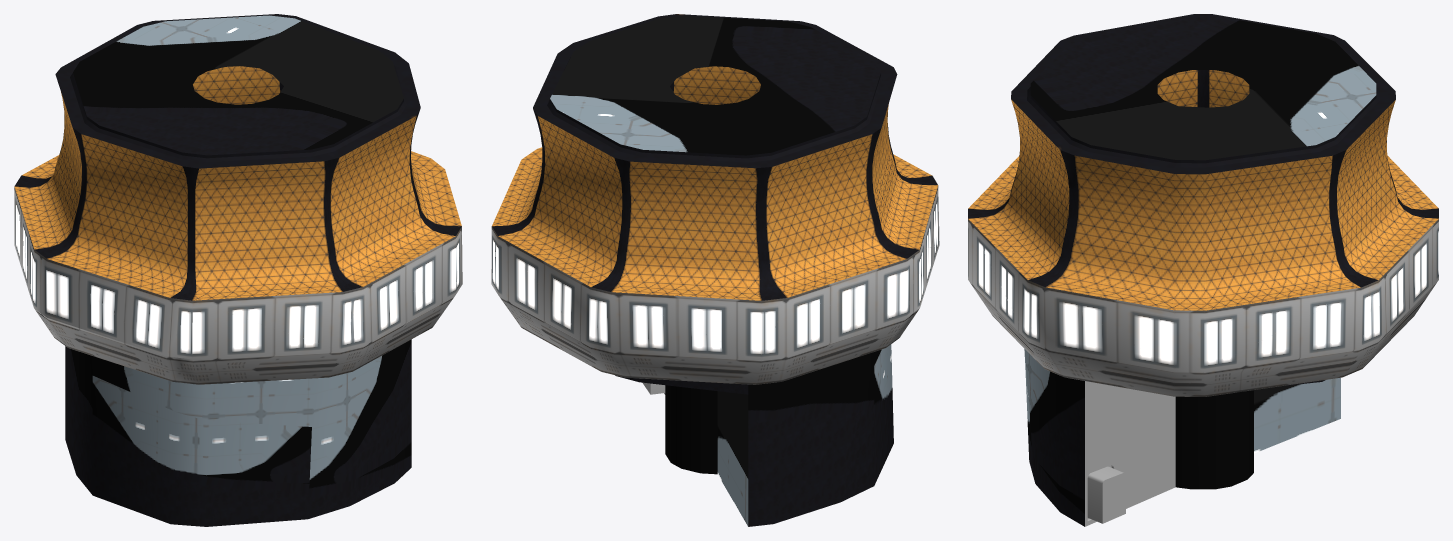
File: Level_01.fbx
The picture shows the model from 3 angles, left to right: view 1: azimuth 30°, elevation 25°; view 2: azimuth 150°, elevation 25°; view 3: azimuth 270°, elevation 25°; orthographic projection. The views are drawn at different scales.
Parts seen in each view (by area): view 1: Circle.011; view 2: Circle.011; view 3: Circle.011.
Part boxes in pixels (box(x1,y1,x2,y2)): Circle.011: box(14, 14, 462, 526); Circle.011: box(491, 14, 939, 526); Circle.011: box(968, 14, 1438, 526).
Bounding box in the file's own units: 647 × 575 × 639.
